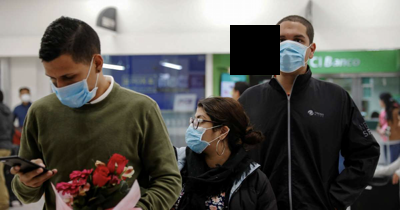with_mask: (45, 69, 96, 113), (271, 32, 311, 75), (185, 113, 222, 155), (20, 90, 30, 105)
